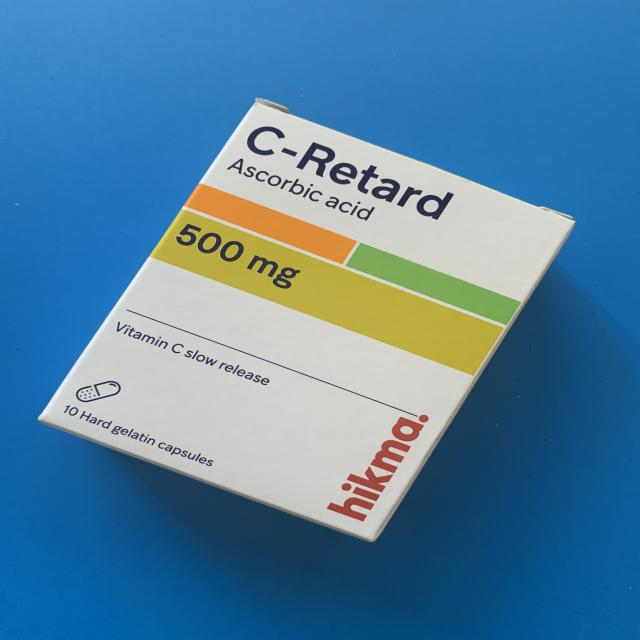C-Retard: (40, 94, 590, 552)
